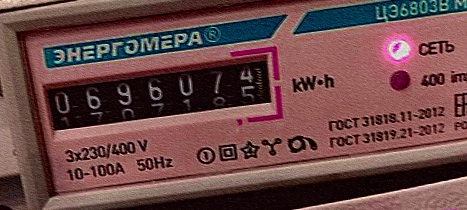0: (51, 88, 72, 115), (175, 70, 194, 98)
4: (237, 62, 253, 84)
5: (239, 84, 256, 104)
6: (81, 83, 102, 110), (145, 74, 164, 103)
7: (206, 67, 225, 95)
9: (113, 80, 133, 108)
screen: (34, 42, 288, 149)
